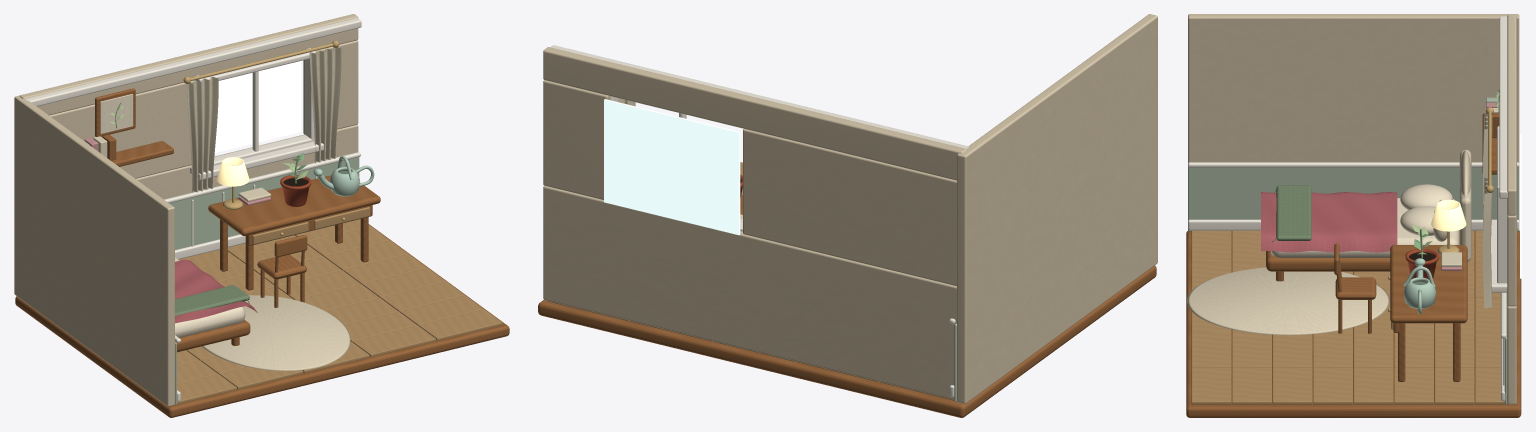
Rendered from bedroom.glb.
3 views of the same model, side by side, from view 1: azimuth 30°, elevation 25°; view 2: azimuth 150°, elevation 25°; view 3: azimuth 270°, elevation 25° (orthographic). The views are drawn at different scales.
Visible parts, largest first — view 1: room_shell / Warm limewash, room_shell / Pale floor oak, room_shell / Painted ivory, room_shell / Honey oak, desk / Honey oak, room_shell / Unbleached linen, room_shell / Window daylight, room_shell / Sage paneling, curtain_right / Unbleached linen, curtain_left / Unbleached linen, room_shell / Ivory cotton, room_shell / Dusty rose quilt (+6 smaller); view 2: room_shell / Warm limewash, room_shell / Window daylight, room_shell / Honey oak, room_shell / Painted ivory, room_shell / Pale floor oak; view 3: room_shell / Warm limewash, room_shell / Pale floor oak, room_shell / Unbleached linen, room_shell / Sage paneling, room_shell / Honey oak, room_shell / Painted ivory, room_shell / Dusty rose quilt, desk / Honey oak, room_shell / Ivory cotton, room_shell / Sage woven throw, watering_can / Sage enamel, curtain_right / Unbleached linen (+5 smaller).
Boxes of the visible parts, x1,y1,x2,y2 form: room_shell / Warm limewash: (14,14,358,406); room_shell / Pale floor oak: (177,219,502,404); room_shell / Painted ivory: (25,18,361,401); room_shell / Honey oak: (15,88,509,417); desk / Honey oak: (208,175,380,307); room_shell / Unbleached linen: (93,136,350,370); room_shell / Window daylight: (214,61,301,152); room_shell / Sage paneling: (82,139,359,404); curtain_right / Unbleached linen: (309,47,341,163); curtain_left / Unbleached linen: (187,76,218,192); room_shell / Ivory cotton: (100,94,245,337); room_shell / Dusty rose quilt: (175,259,257,323); room_shell / Warm limewash: (543,14,1157,403); room_shell / Window daylight: (604,99,740,234); room_shell / Honey oak: (538,265,1156,417); room_shell / Painted ivory: (551,45,968,397); room_shell / Pale floor oak: (547,162,954,400); room_shell / Warm limewash: (1188,14,1519,404); room_shell / Pale floor oak: (1191,230,1508,404); room_shell / Unbleached linen: (1187,108,1498,335); room_shell / Sage paneling: (1188,97,1519,404); room_shell / Honey oak: (1186,113,1521,417); room_shell / Painted ivory: (1188,16,1519,401); room_shell / Dusty rose quilt: (1261,192,1397,252); desk / Honey oak: (1334,243,1467,381); room_shell / Ivory cotton: (1271,184,1459,257); room_shell / Sage woven throw: (1271,185,1311,242); watering_can / Sage enamel: (1403,258,1435,313); curtain_right / Unbleached linen: (1483,177,1492,308).
Size of the model in its own units: 5.77 by 3.41 by 4.56.
Materials: 19 (9 with a texture image).
